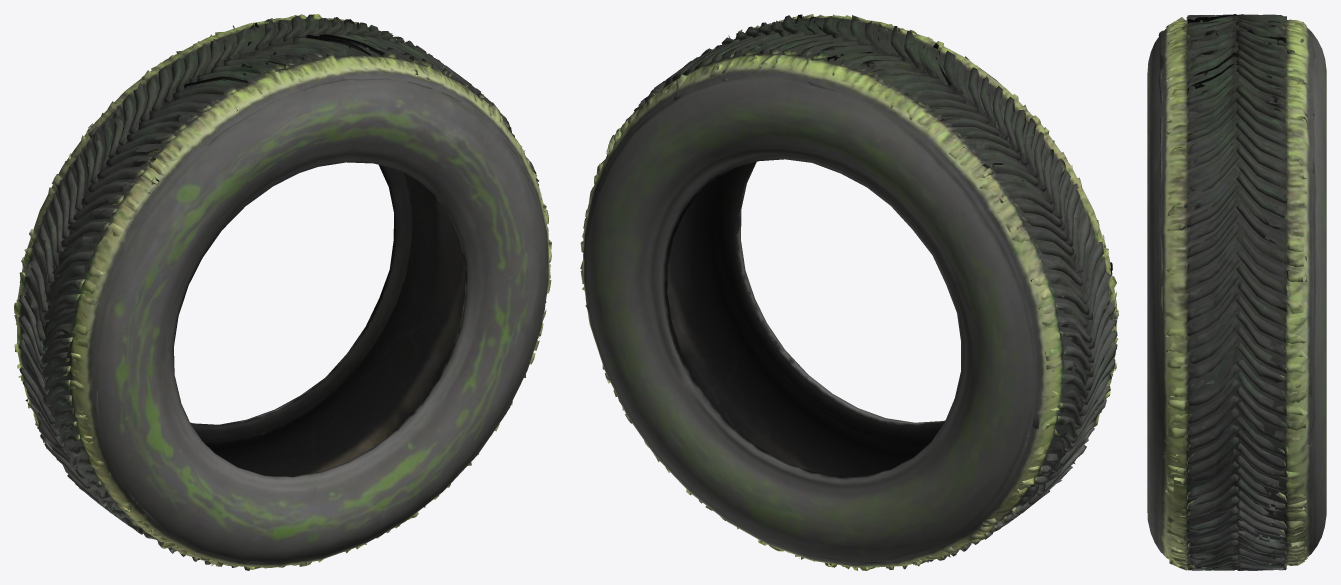
File: Rim v8.glb
3 renders of one model, left to right at view 1: azimuth 30°, elevation 25°; view 2: azimuth 150°, elevation 25°; view 3: azimuth 270°, elevation 25°, orthographic.
Visible parts, largest first — view 1: Mesh0; view 2: Mesh0; view 3: Mesh0.
Part boxes in pixels (x1,y1,x2,y2): Mesh0: (14,14,551,570); Mesh0: (580,14,1118,570); Mesh0: (1147,14,1326,570).
Size of the model in its own units: 2 by 2 by 0.6451.
1 material, 1 textured.
